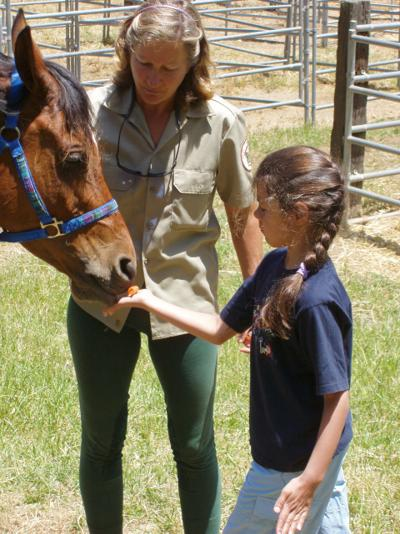person: (103, 146, 353, 534)
